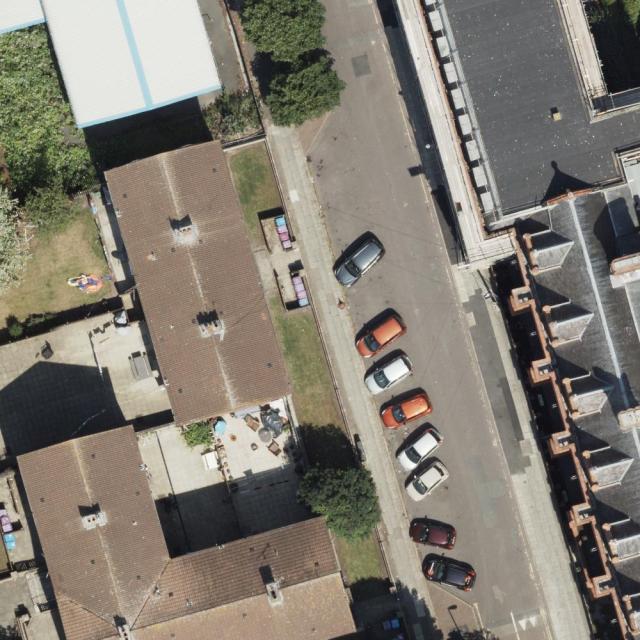roof: (397, 0, 640, 640), (15, 424, 356, 640), (104, 139, 294, 427), (0, 0, 222, 131)
